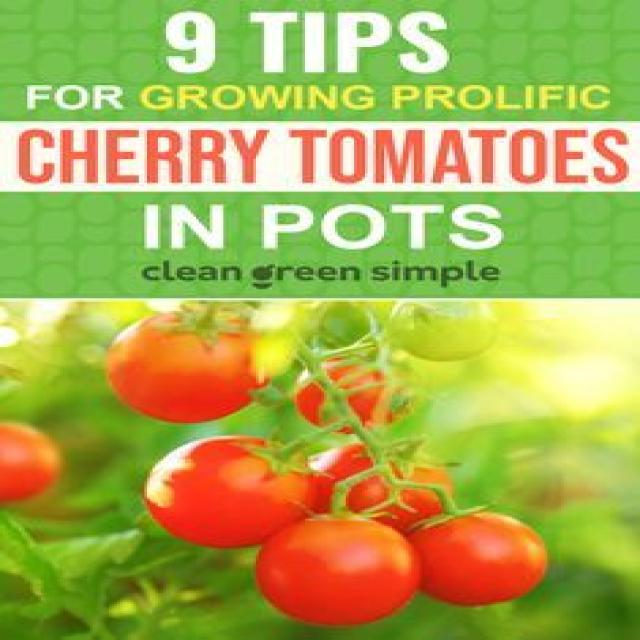level 3: (378, 296, 504, 354), (287, 286, 383, 350)
level 6: (144, 439, 308, 550), (114, 315, 268, 428), (262, 522, 426, 621), (284, 445, 456, 533), (408, 516, 550, 606), (308, 360, 422, 436), (0, 416, 64, 504)
